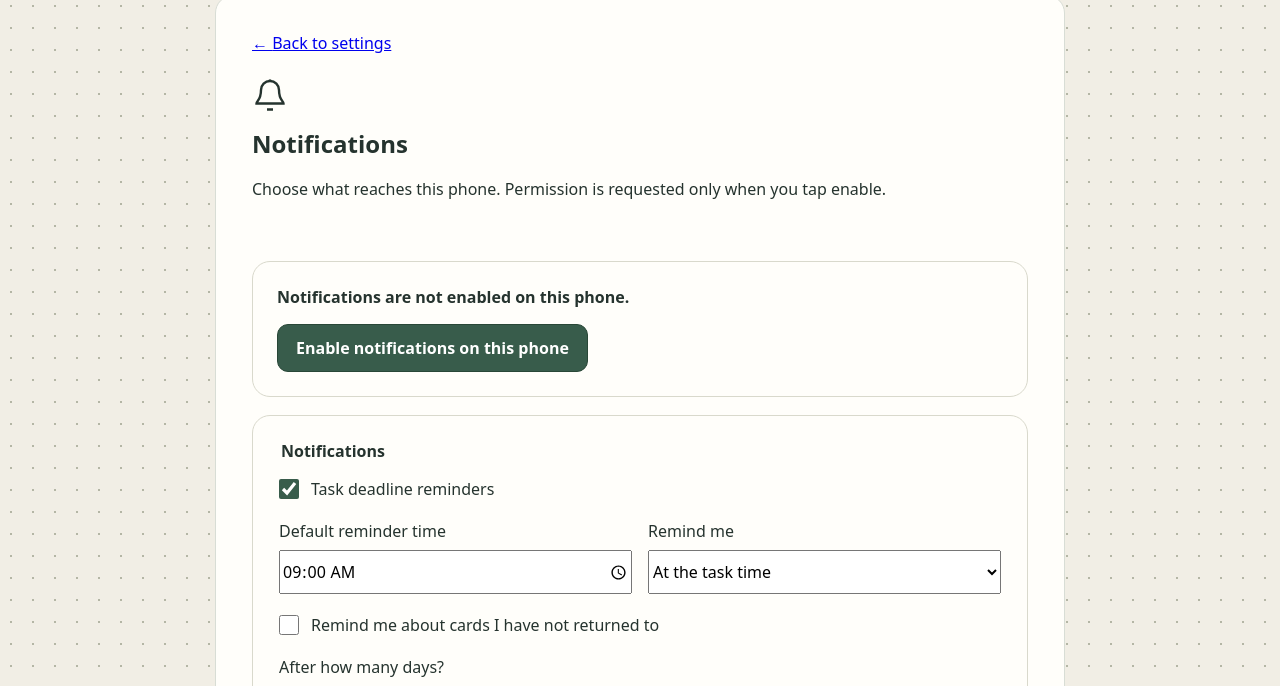
does not enable the account when phone permission is denied
This screenshot has width=1280, height=686.
Click the button "Enable notifications on this phone". click: coordinates (432, 348)
box: [277,324,588,372]
(page scrolled)
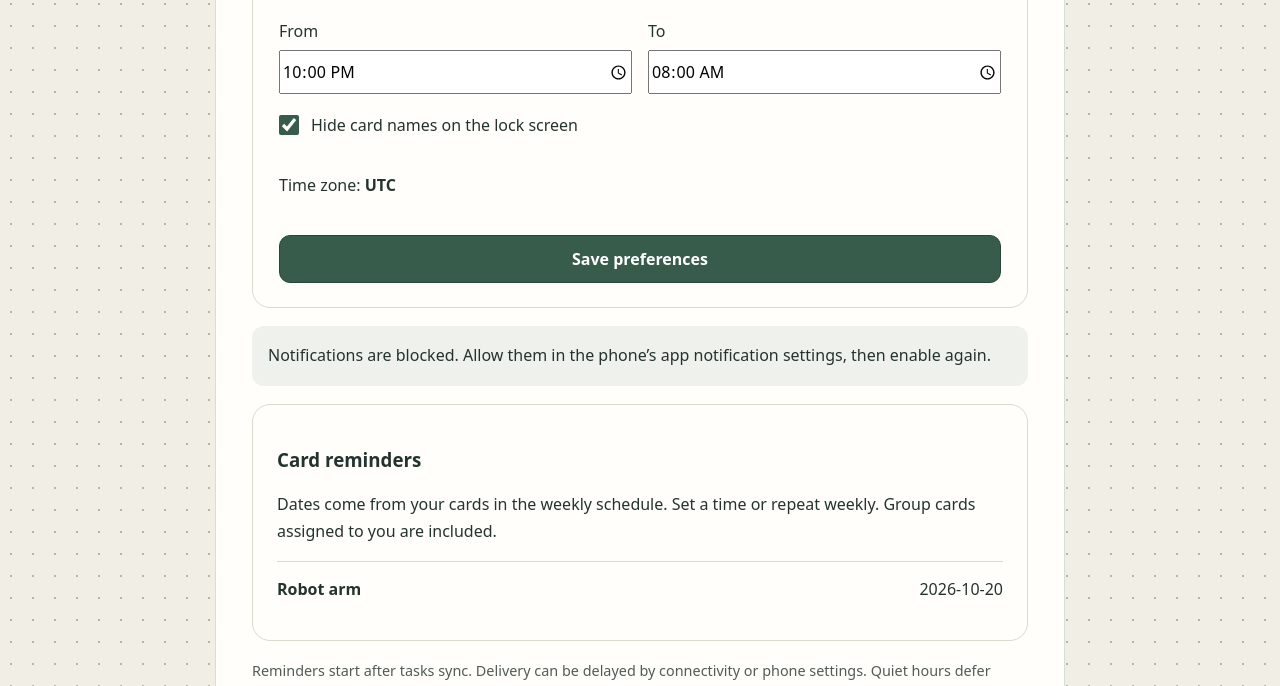
Expected: the message shows "blocked", [268,344,991,366]
